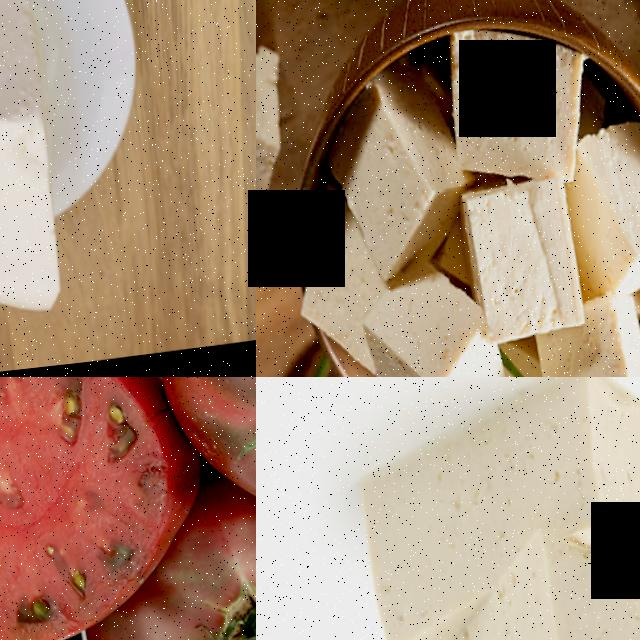tofu: (327, 377, 640, 635), (434, 34, 585, 200), (378, 550, 640, 640), (446, 180, 580, 354), (340, 83, 443, 279), (343, 267, 483, 377), (571, 119, 640, 304), (256, 10, 287, 230), (570, 289, 638, 377)
